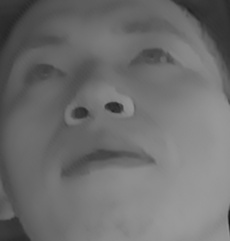eye: (127, 34, 179, 77), (21, 56, 66, 92)
mouth: (57, 135, 158, 184)
